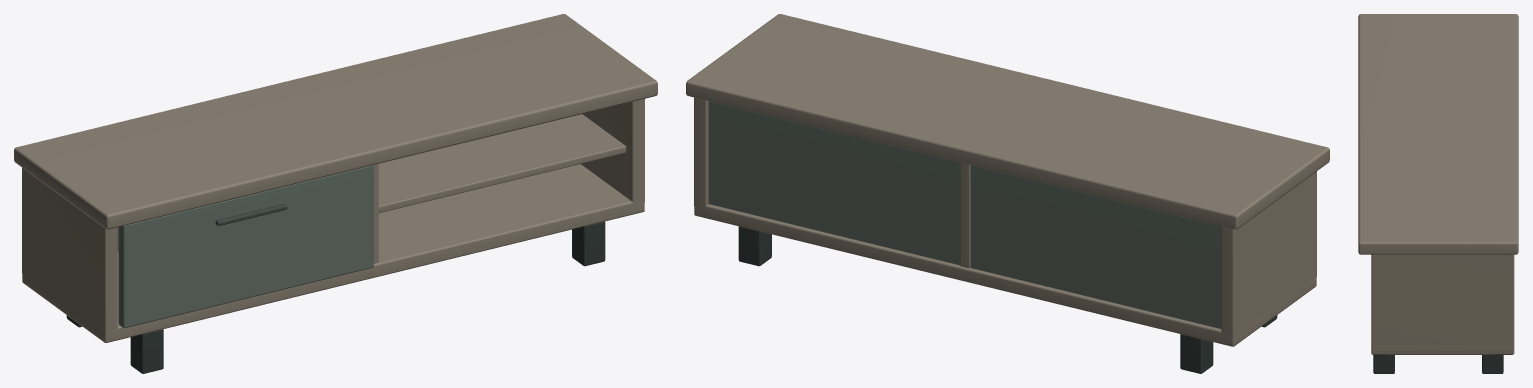
File: SM_Cabinet_Low.glb
3 renders of one model, left to right at view 1: azimuth 30°, elevation 25°; view 2: azimuth 150°, elevation 25°; view 3: azimuth 270°, elevation 25°, orthographic. The views are drawn at different scales.
Parts seen in each view (by area): view 1: SM_Cabinet_Low__Body; view 2: SM_Cabinet_Low__Body; view 3: SM_Cabinet_Low__Body.
Part boxes in pixels (bbox=[...]): SM_Cabinet_Low__Body: bbox=[14, 14, 657, 373]; SM_Cabinet_Low__Body: bbox=[686, 14, 1329, 373]; SM_Cabinet_Low__Body: bbox=[1358, 14, 1518, 373].
Bounding box in the file's own units: 1.9 × 0.58 × 0.56.
